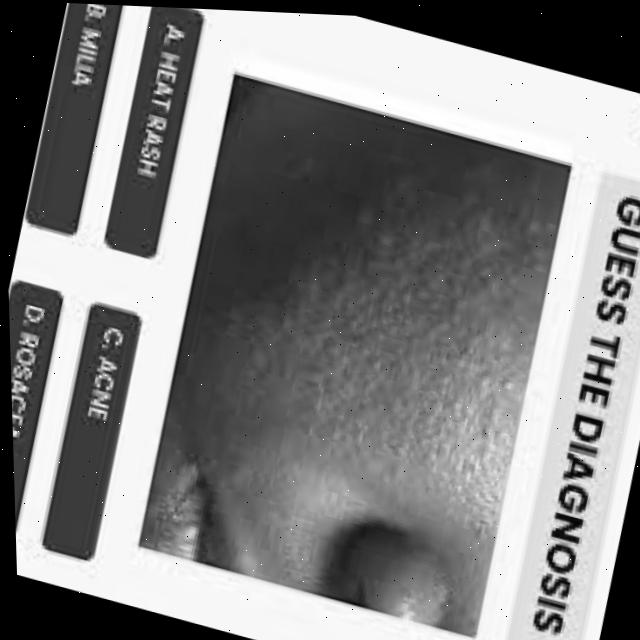Rosacea: (261, 138, 524, 379)
